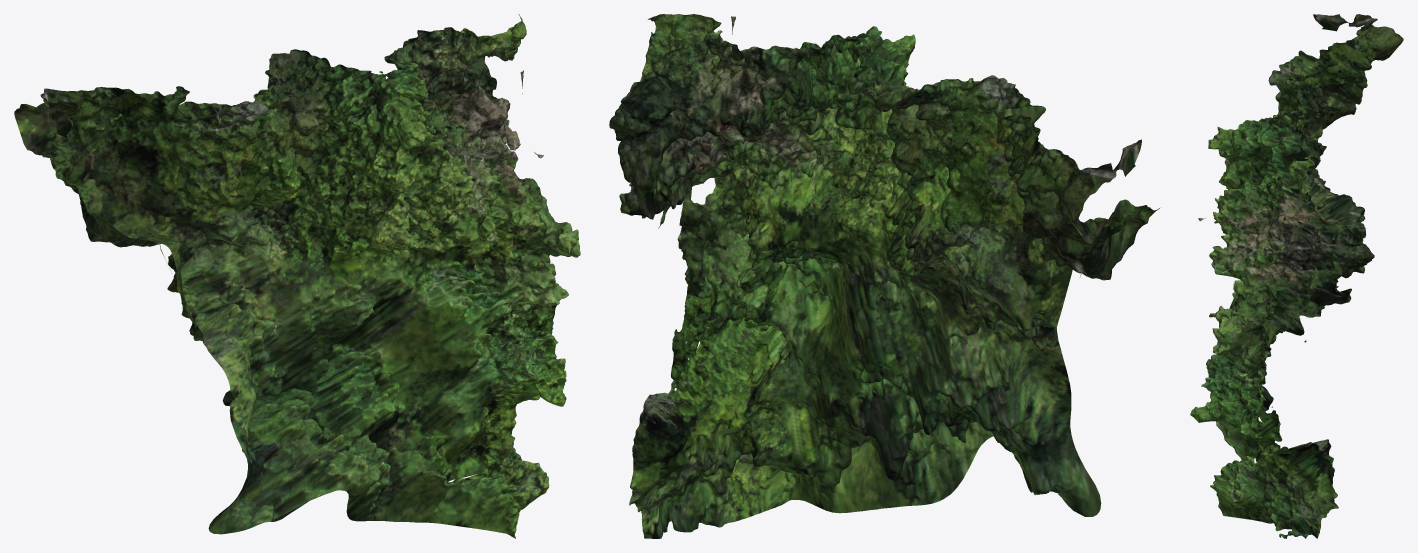
Rendered from Tile_+004_+018.fbx.
3 views of the same model, side by side, from view 1: azimuth 30°, elevation 25°; view 2: azimuth 150°, elevation 25°; view 3: azimuth 270°, elevation 25° (orthographic). The views are drawn at different scales.
Visible parts, largest first — view 1: DefaultName; view 2: DefaultName; view 3: DefaultName.
Boxes of the visible parts, x1,y1,x2,y2 form: DefaultName: (14, 14, 580, 538); DefaultName: (609, 14, 1159, 538); DefaultName: (1190, 14, 1403, 538).
Bounding box in the file's own units: 22.54 × 22.54 × 12.16.
